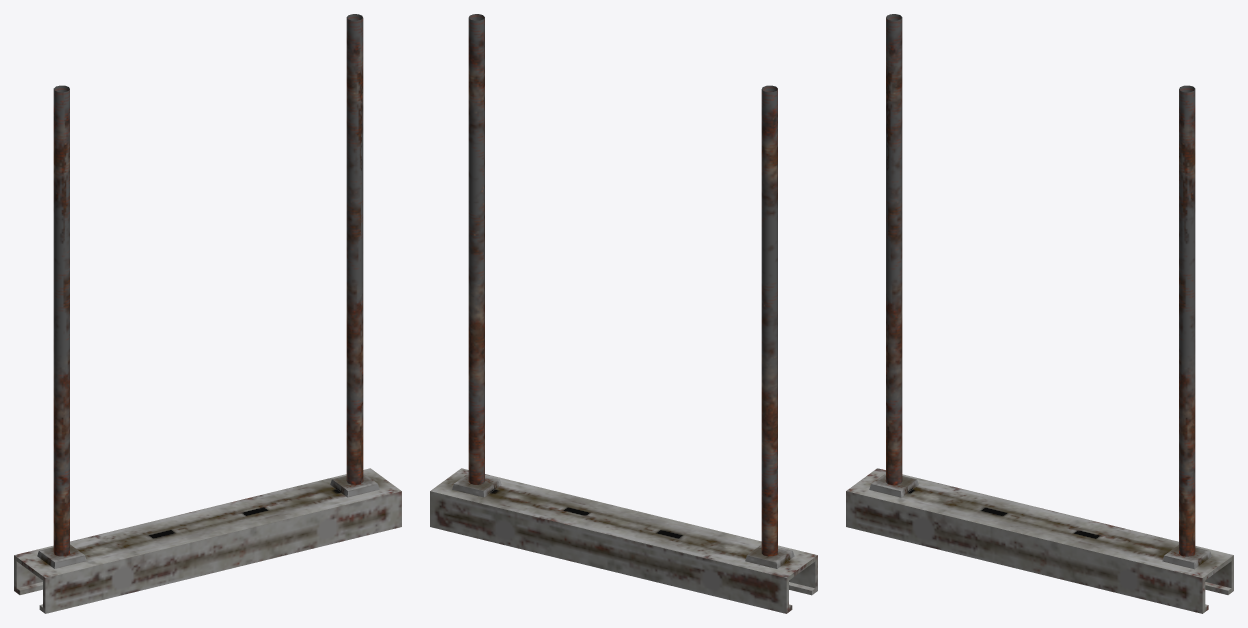
File: Bracket_02a_snaps019.fbx
3 views of the same model, side by side, from view 1: azimuth 30°, elevation 25°; view 2: azimuth 150°, elevation 25°; view 3: azimuth 330°, elevation 25° (orthographic).
Parts seen in each view (by area): view 1: Bracket_02a_snaps019_LOD0; view 2: Bracket_02a_snaps019_LOD0; view 3: Bracket_02a_snaps019_LOD0.
Part boxes in pixels (x1=…): Bracket_02a_snaps019_LOD0: x1=14, y1=14, x2=401, y2=613; Bracket_02a_snaps019_LOD0: x1=430, y1=14, x2=817, y2=613; Bracket_02a_snaps019_LOD0: x1=846, y1=14, x2=1233, y2=613.
Size of what is drawn, in the model's own units: 26 by 35.25 by 3.96.
